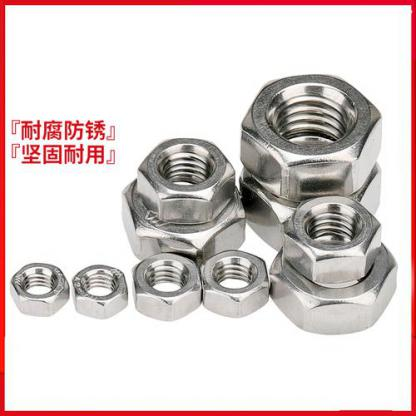FOD: (237, 70, 385, 204), (267, 234, 400, 334), (120, 178, 247, 263), (280, 194, 384, 289), (132, 134, 238, 226), (198, 249, 272, 319), (131, 253, 201, 321), (67, 262, 129, 326), (9, 259, 69, 314)
